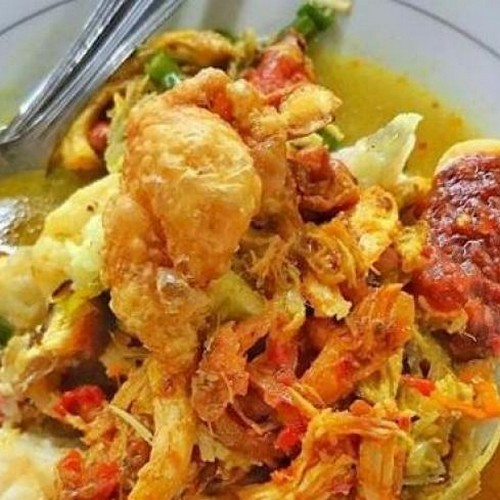tipat blayag: (23, 67, 474, 484)
